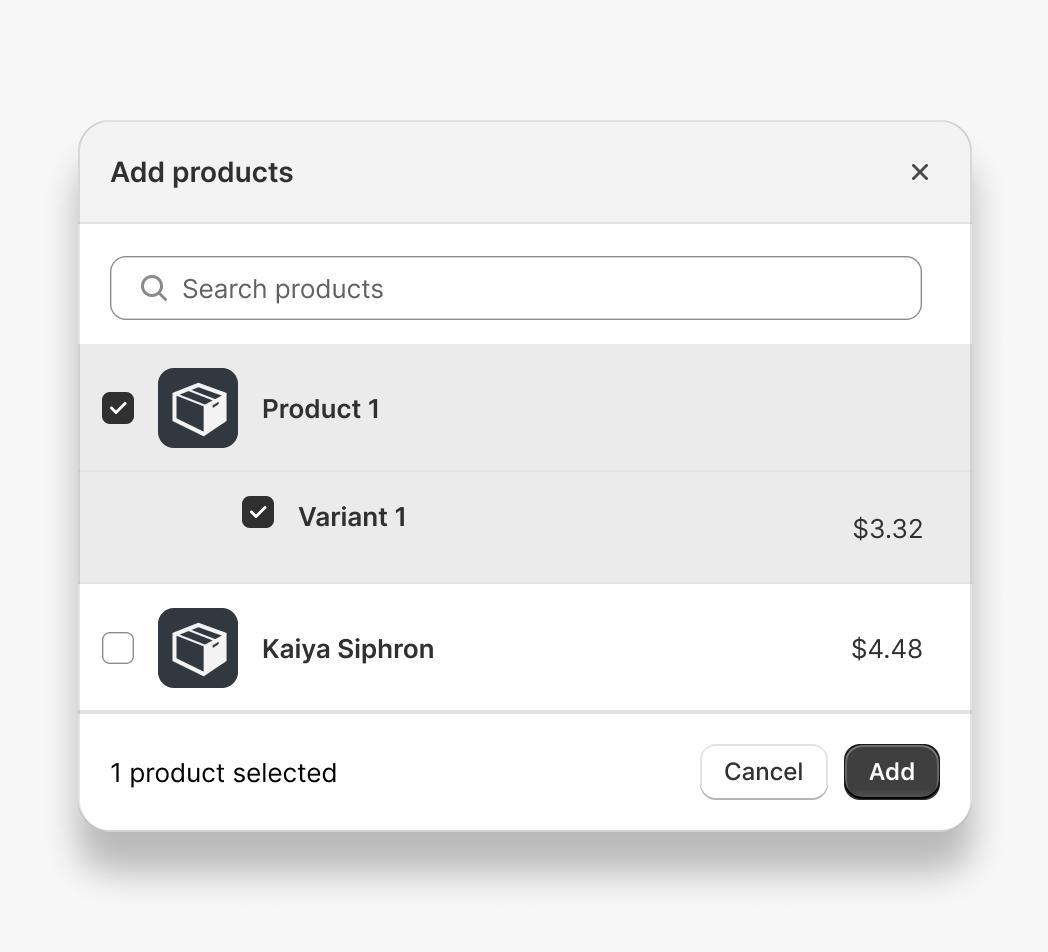button: (701, 745, 830, 803), (846, 744, 944, 803)
checkbox: (103, 391, 137, 426), (240, 497, 276, 530), (102, 634, 136, 665)
icon: (157, 367, 242, 451), (160, 607, 241, 691), (905, 156, 939, 188)
input: (112, 257, 924, 321)
label: (111, 762, 340, 794), (107, 160, 301, 191), (262, 636, 439, 667), (261, 398, 381, 424), (297, 505, 412, 531)
